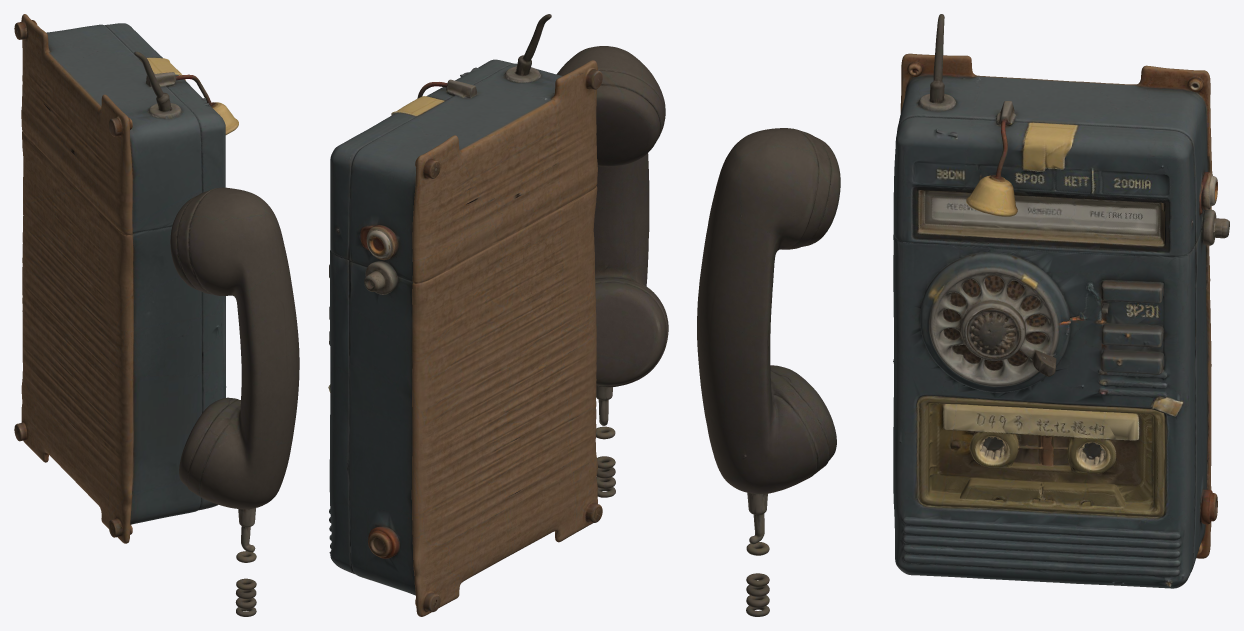
3 renders of one model, left to right at view 1: azimuth 30°, elevation 25°; view 2: azimuth 150°, elevation 25°; view 3: azimuth 270°, elevation 25°, orthographic. The views are drawn at different scales.
Visible parts, largest first — view 1: tripo_node_9620e8ae-594d-4020-af51-9478994639b0; view 2: tripo_node_9620e8ae-594d-4020-af51-9478994639b0; view 3: tripo_node_9620e8ae-594d-4020-af51-9478994639b0.
Boxes of the visible parts, x1,y1,x2,y2 form: tripo_node_9620e8ae-594d-4020-af51-9478994639b0: (14, 14, 299, 616); tripo_node_9620e8ae-594d-4020-af51-9478994639b0: (328, 14, 668, 616); tripo_node_9620e8ae-594d-4020-af51-9478994639b0: (697, 14, 1229, 616).
Bounding box in the file's own units: 0.3228 × 0.9999 × 0.8292.
1 material, 1 textured.
